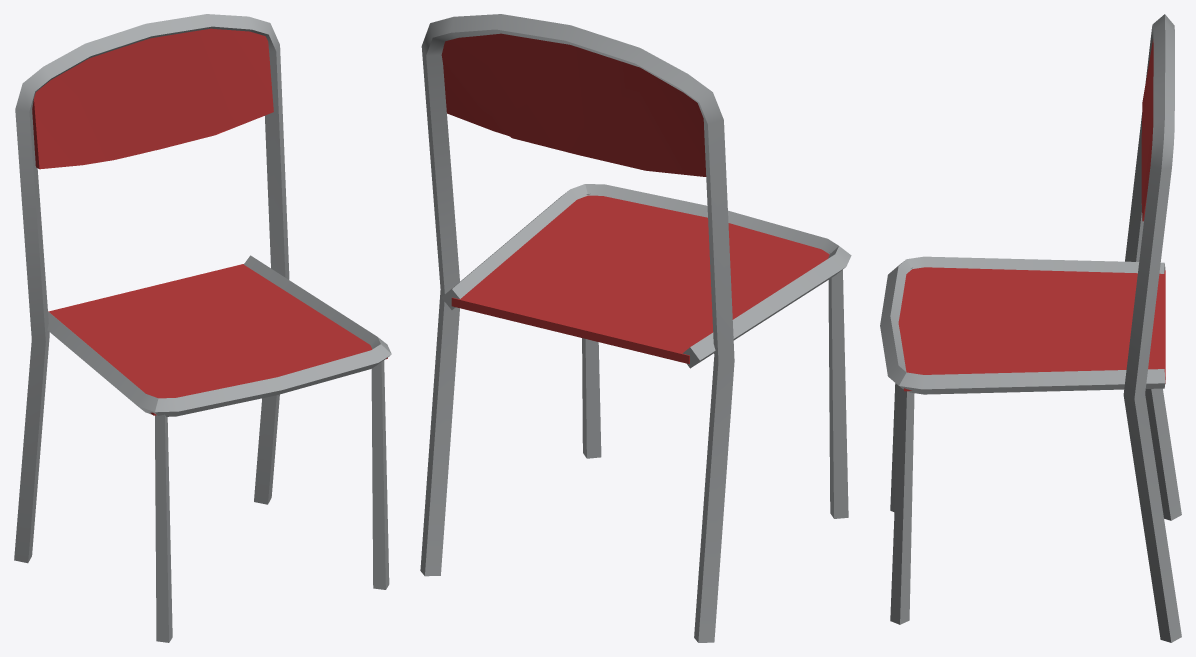
Rendered from SM_chair_cafe_02.fbx.
3 views of the same model, side by side, from view 1: azimuth 30°, elevation 25°; view 2: azimuth 150°, elevation 25°; view 3: azimuth 270°, elevation 25° (orthographic). The views are drawn at different scales.
Parts seen in each view (by area): view 1: Line022; view 2: Line022; view 3: Line022.
Boxes of the visible parts, x1=… form: Line022: x1=14, y1=14, x2=391, y2=642; Line022: x1=420, y1=14, x2=851, y2=642; Line022: x1=880, y1=14, x2=1181, y2=642.
Size of the model in its own units: 19.95 by 18.87 by 36.62.
